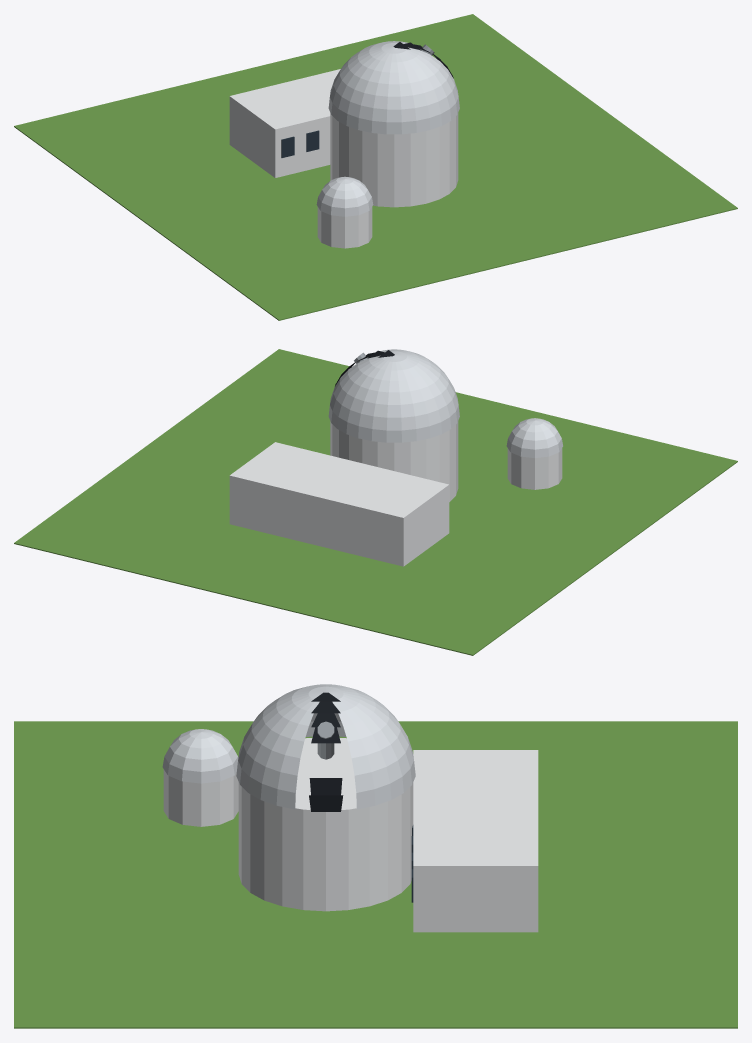
Rendered from observatory.glb.
3 renders of one model, top to bottom at view 1: azimuth 30°, elevation 25°; view 2: azimuth 150°, elevation 25°; view 3: azimuth 270°, elevation 25°, orthographic. The views are drawn at different scales.
Parts seen in each view (by area): view 1: Observatory_static, spinY_s05_dome; view 2: Observatory_static, spinY_s05_dome; view 3: Observatory_static, spinY_s05_dome.
Boxes of the visible parts, x1,y1,x2,y2 form: Observatory_static: [14, 14, 737, 320]; spinY_s05_dome: [328, 41, 459, 134]; Observatory_static: [14, 349, 737, 655]; spinY_s05_dome: [328, 349, 459, 442]; Observatory_static: [14, 721, 737, 1028]; spinY_s05_dome: [236, 684, 415, 811].
Bounding box in the file's own units: 58 × 16.2 × 58.
